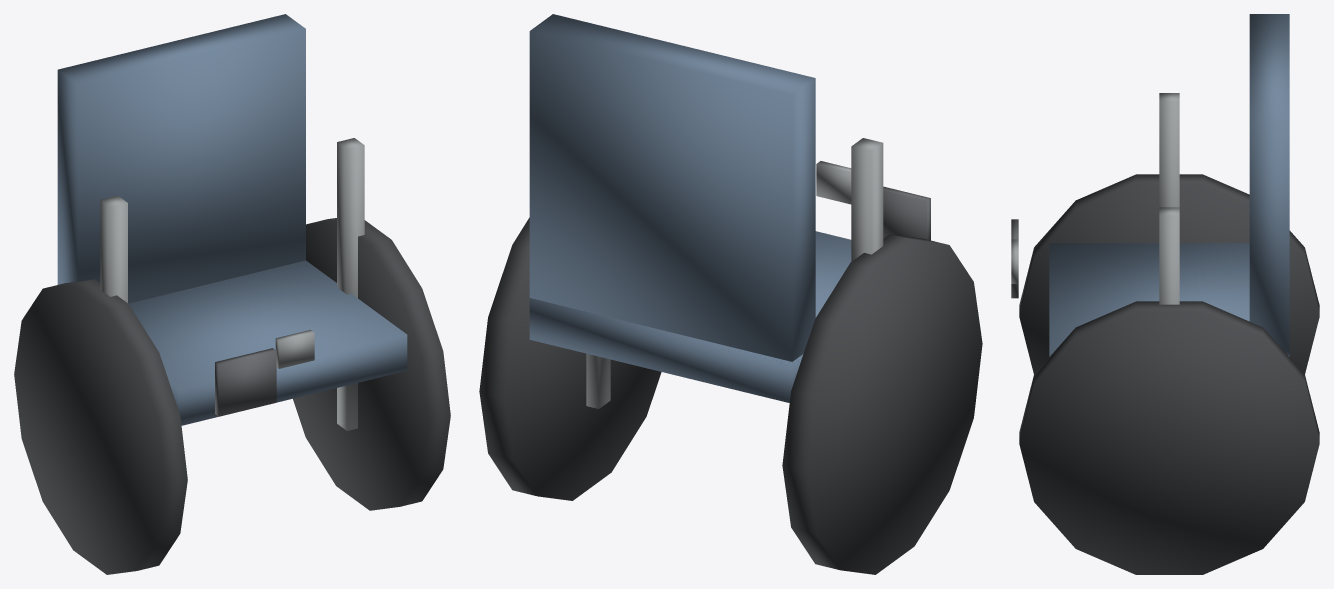
Rendered from wheelchair__weathered.glb.
3 renders of one model, left to right at view 1: azimuth 30°, elevation 25°; view 2: azimuth 150°, elevation 25°; view 3: azimuth 270°, elevation 25°, orthographic. The views are drawn at different scales.
Parts seen in each view (by area): view 1: world; view 2: world; view 3: world.
Boxes of the visible parts, x1,y1,x2,y2 form: world: (14, 14, 450, 574); world: (479, 14, 982, 574); world: (1011, 14, 1319, 574).
Size of the model in its own units: 0.65 by 0.9628 by 0.6159.
